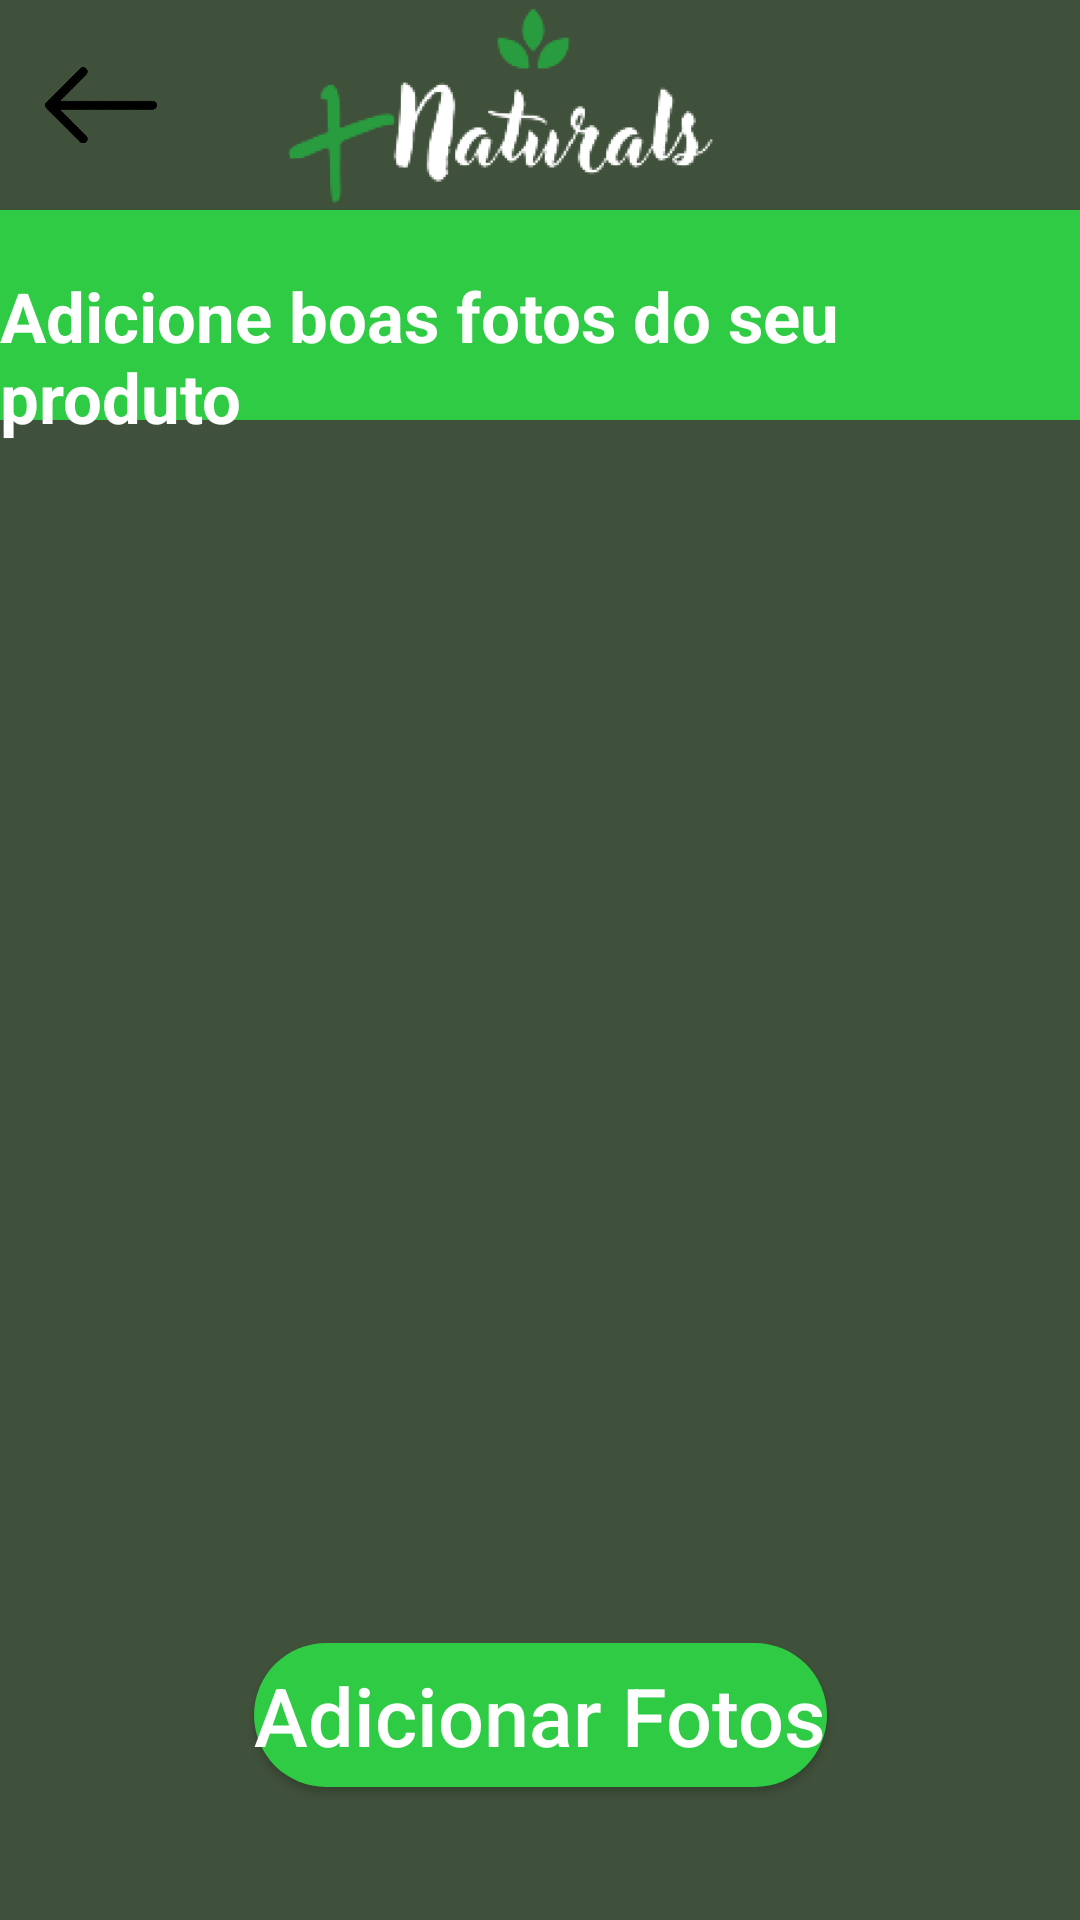

Named icons in this screenshot (1080px×1920px) and their bounding boxes, (x1, y1, x2, y2):
setavetor: (45, 67, 157, 143)
